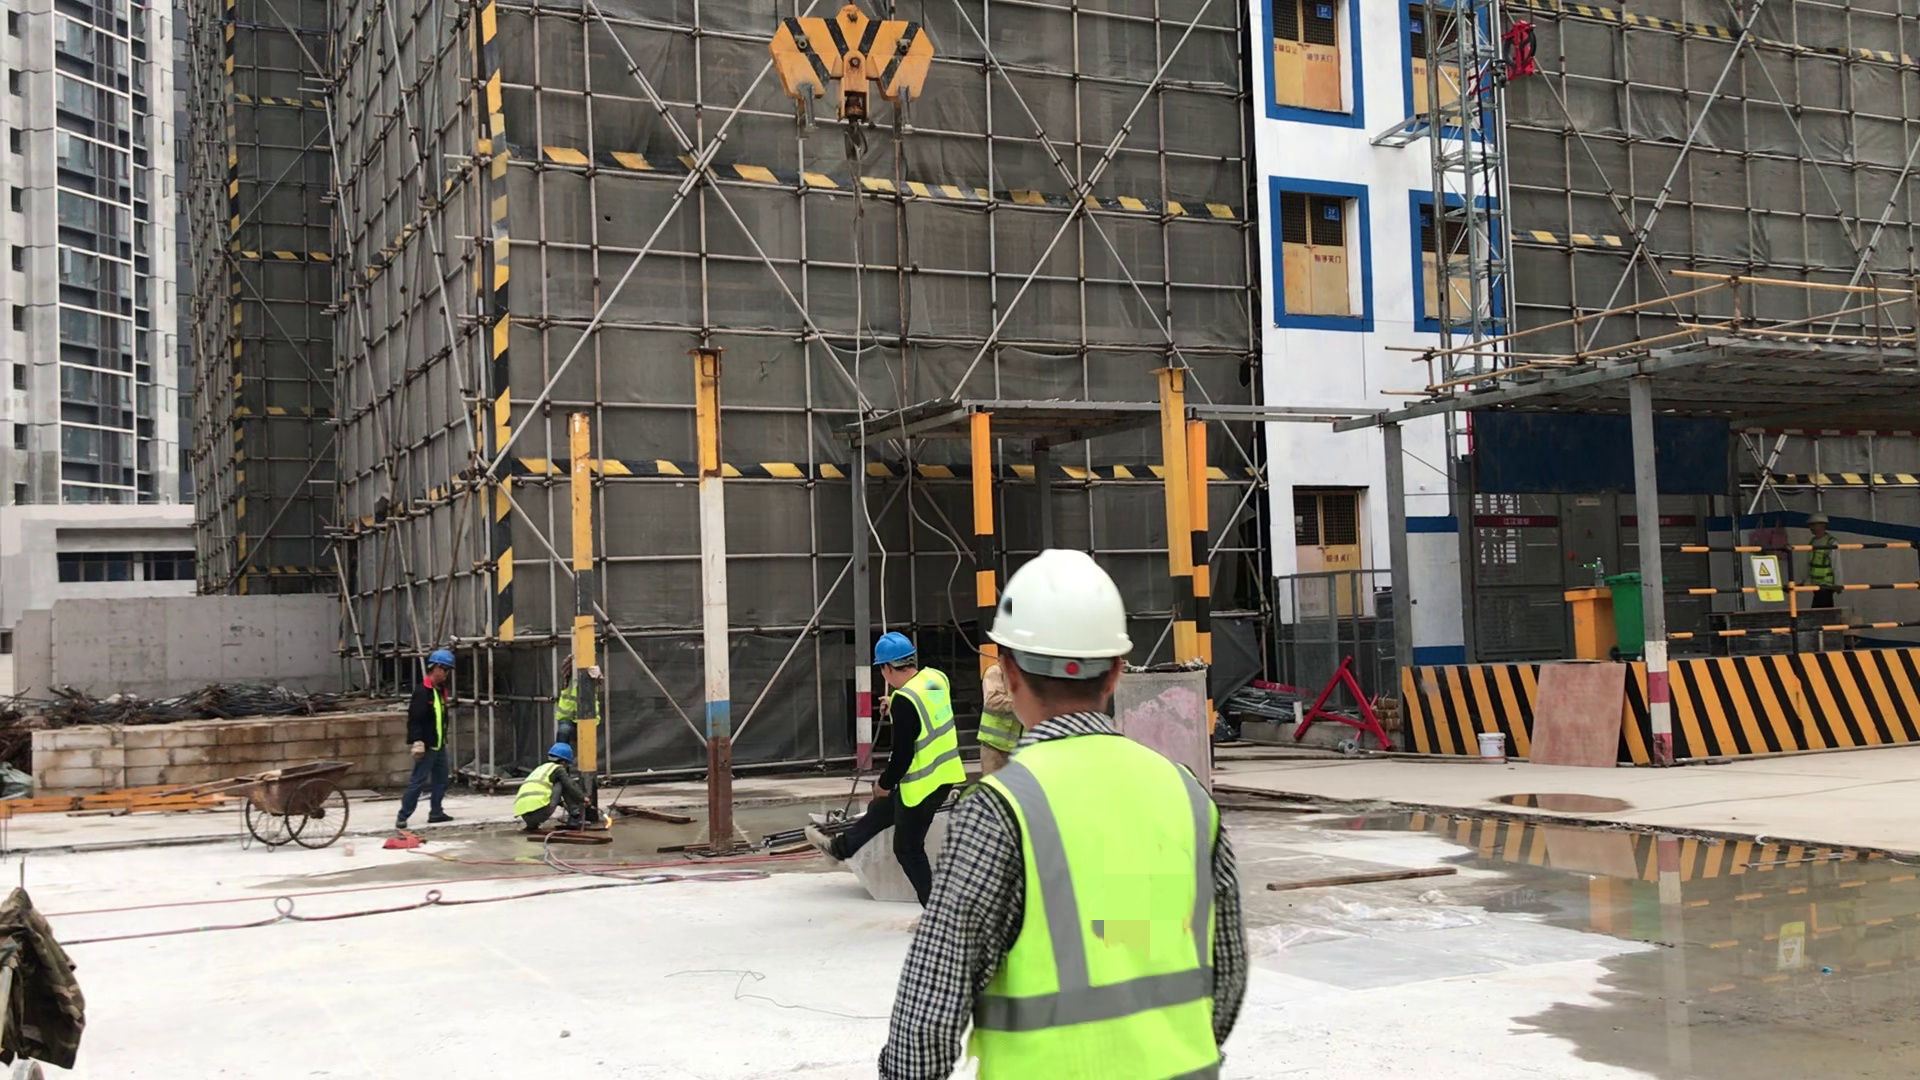helmet: (986, 543, 1193, 668), (867, 626, 917, 677), (533, 738, 588, 764), (425, 638, 462, 673), (1804, 507, 1835, 527)
person: (854, 523, 1311, 1080), (806, 623, 952, 922), (398, 620, 470, 839), (505, 719, 621, 845), (961, 637, 1023, 772), (540, 629, 611, 738), (1802, 508, 1854, 627)
vest: (945, 718, 1269, 1041), (882, 664, 977, 815), (972, 663, 1025, 763), (409, 669, 460, 749), (511, 759, 568, 819), (551, 666, 610, 717), (1808, 533, 1835, 592)
